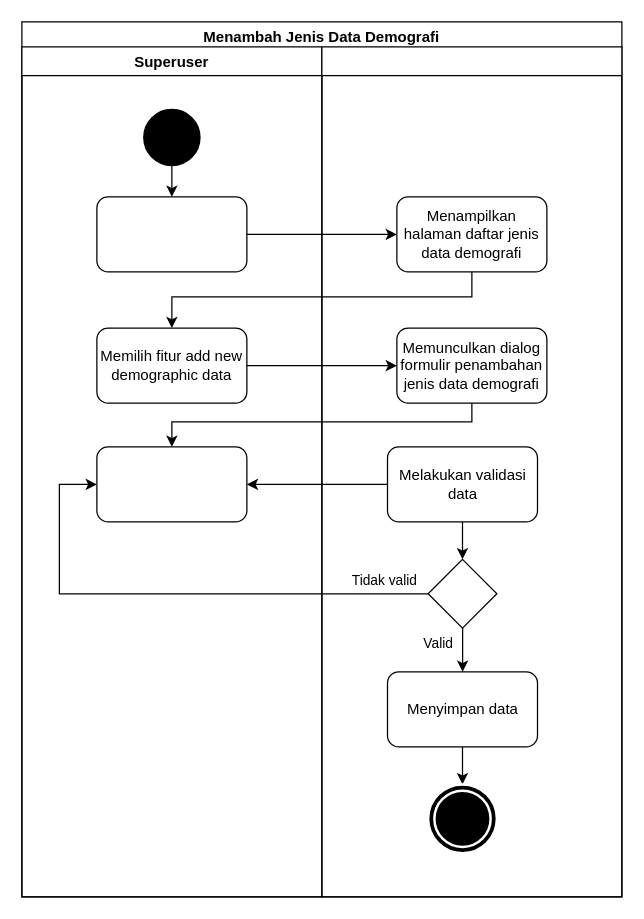
The diagram is 644 pixels wide and 919 high, and some of its shapes have lost their labels. The box of each missing label's shape, as (x1, y1, x2, y2) in pixels:
Membuka halaman daftar jenis data demografi: (96, 196, 247, 272)
Mengisi formulir: (96, 446, 247, 522)
Sistem: (321, 46, 622, 897)
